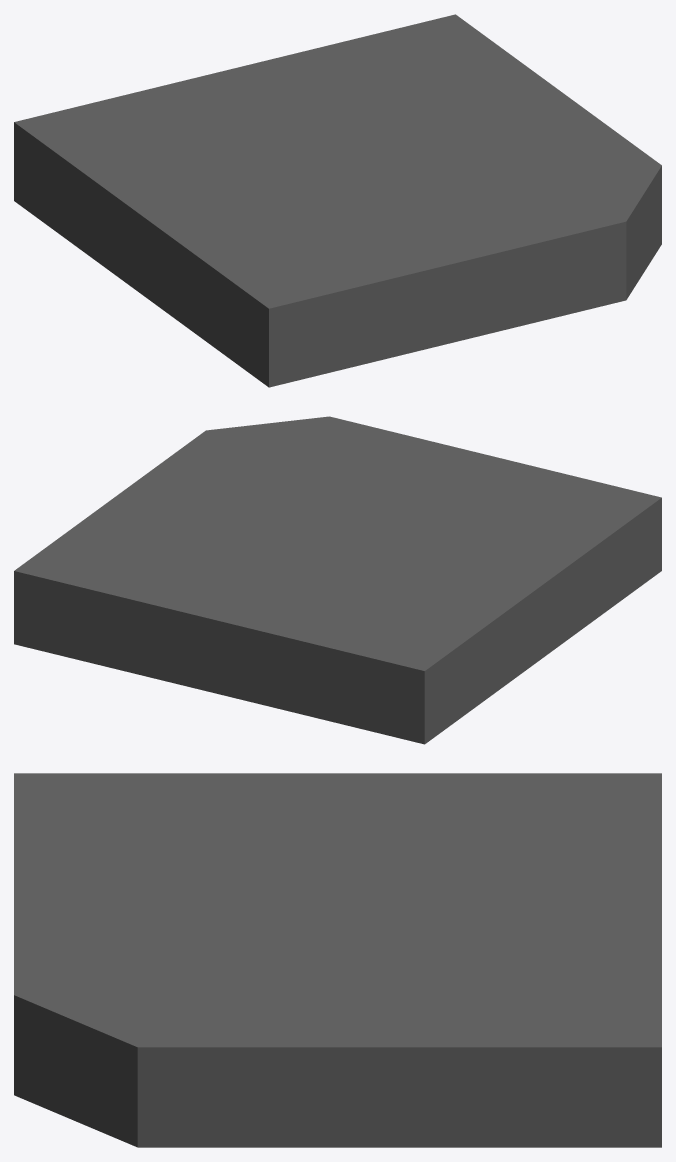
File: Tile_04.fbx
3 views of the same model, one above another, from view 1: azimuth 30°, elevation 25°; view 2: azimuth 150°, elevation 25°; view 3: azimuth 270°, elevation 25° (orthographic). The views are drawn at different scales.
Visible parts, largest first — view 1: Tile_04_LOD0; view 2: Tile_04_LOD0; view 3: Tile_04_LOD0.
Part boxes in pixels (x1=…): Tile_04_LOD0: x1=14, y1=14, x2=661, y2=387; Tile_04_LOD0: x1=14, y1=416, x2=661, y2=744; Tile_04_LOD0: x1=14, y1=773, x2=661, y2=1147.
Size of what is drawn, in the model's own units: 0.2293 by 0.0391 by 0.2293.
